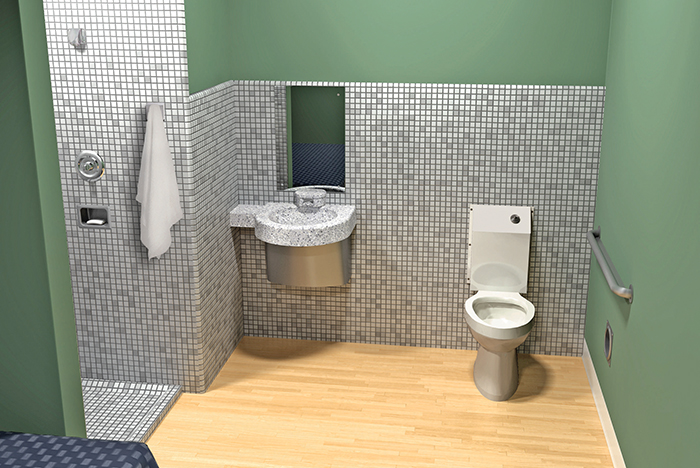restroom_assist_bar: (585, 228, 637, 304)
sink: (228, 190, 363, 246)
toilet: (454, 205, 541, 403)
